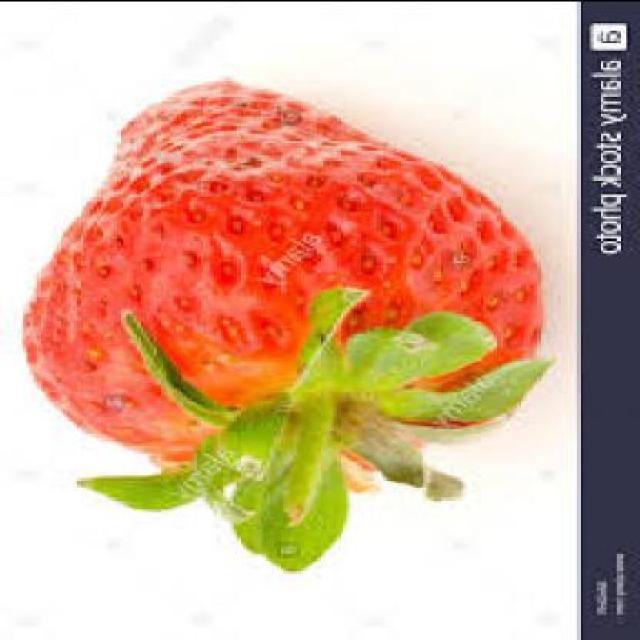BIODEGRADABLE: (23, 71, 540, 569)
